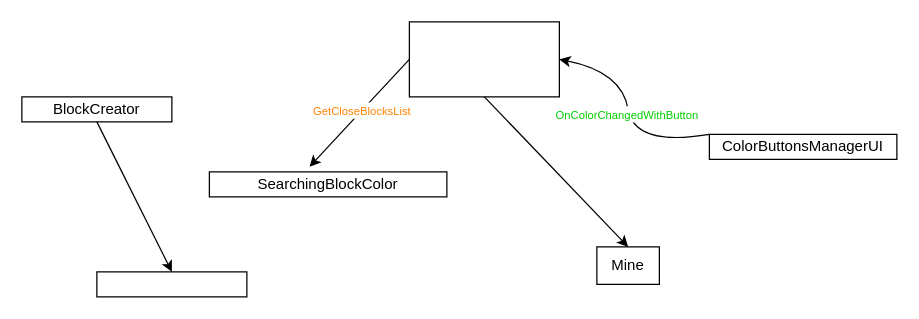
This 919x319 diagram has some shape labels left out. The box of each missing label's shape, as (x1, y1, x2, y2) in pixels:
Block: (96, 271, 247, 297)
Player: (408, 21, 559, 97)
